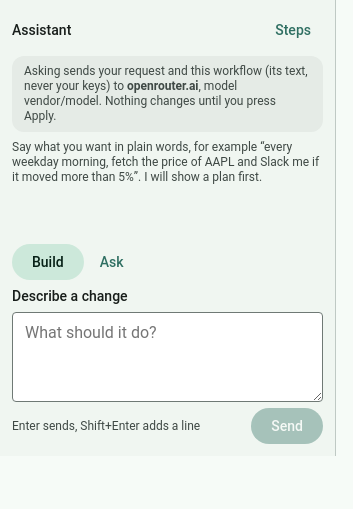
Test: AssistantPanel › shows a plan for a prompt and changes nothing until Apply
Type "add a summary" into the text box labelled "Describe a change". click: (168, 357)
box: [12, 312, 323, 402]
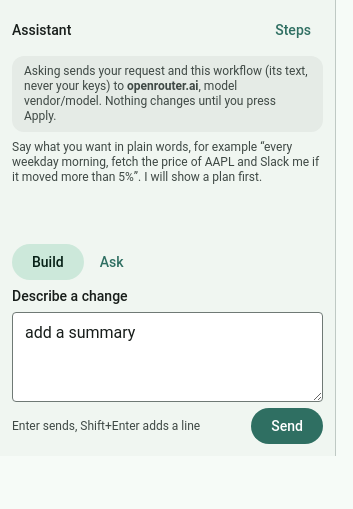
Click the button "Send". click: (287, 426)
box: [251, 408, 323, 444]
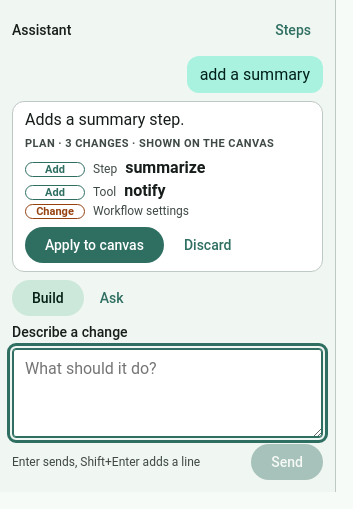
expect the element named "Proposed plan" is shown: met, box [12, 101, 323, 272]
expect the text "Adds a summary step." is shown: met, box [25, 110, 184, 129]
expect the element with test id "assistant-notice" is gone: met
